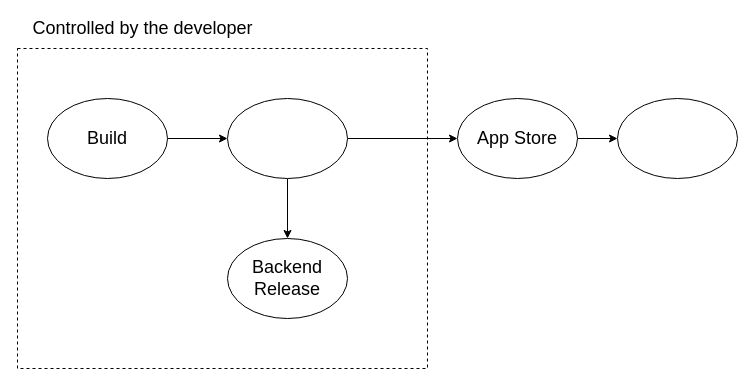
This 755x386 diagram has some shape labels left out. The shapes that lost their labels are listed below. From the top down, each one's centre as x and y in pixels, then its label:
point (287, 138): Deploy
point (677, 138): Release
